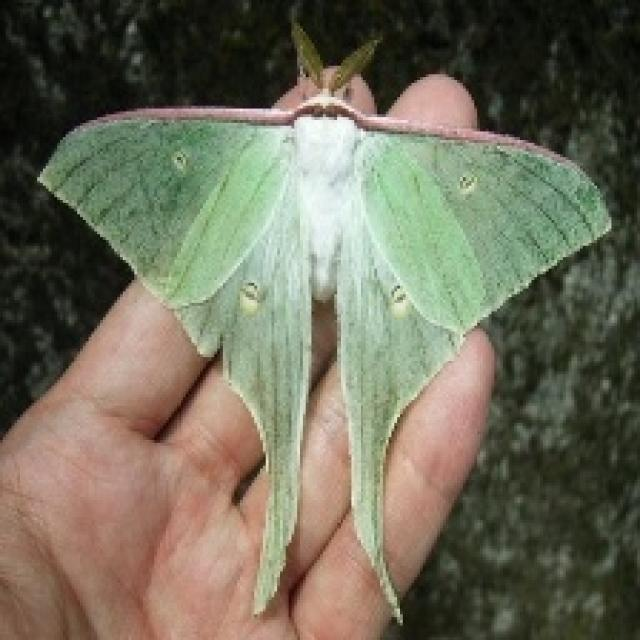butterfly: (34, 20, 612, 623)
